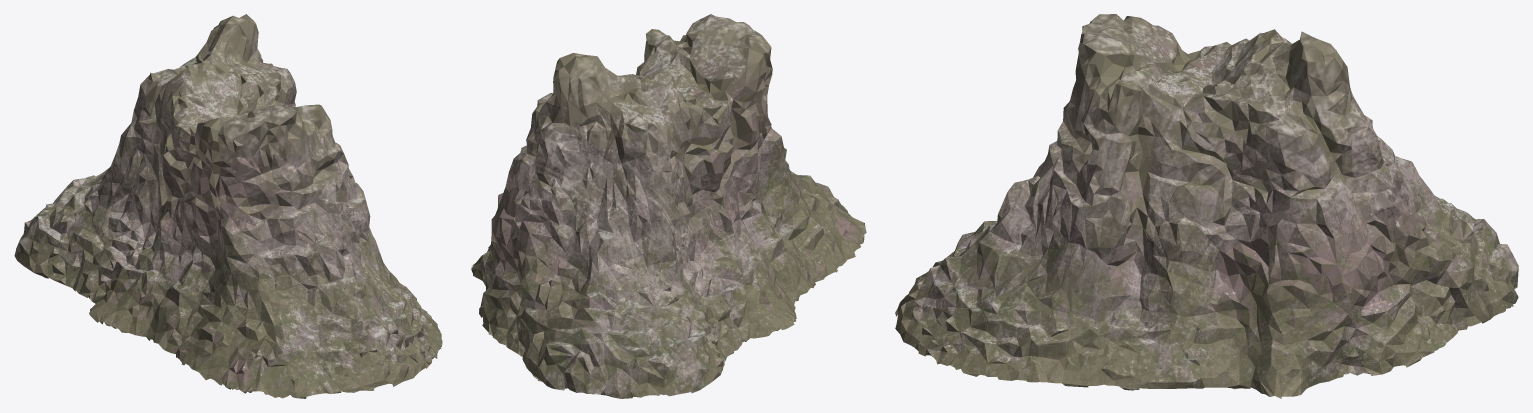
Rendered from mountain-99dd9cce.glb.
3 views of the same model, side by side, from view 1: azimuth 30°, elevation 25°; view 2: azimuth 150°, elevation 25°; view 3: azimuth 270°, elevation 25° (orthographic). The views are drawn at different scales.
Visible parts, largest first — view 1: defaultMaterial; view 2: defaultMaterial; view 3: defaultMaterial.
Boxes of the visible parts, x1,y1,x2,y2 form: defaultMaterial: (14, 14, 442, 398); defaultMaterial: (471, 14, 866, 398); defaultMaterial: (895, 14, 1518, 398).
Bounding box in the file's own units: 12.21 × 9.87 × 18.78.
Materials: 1 (1 with a texture image).
